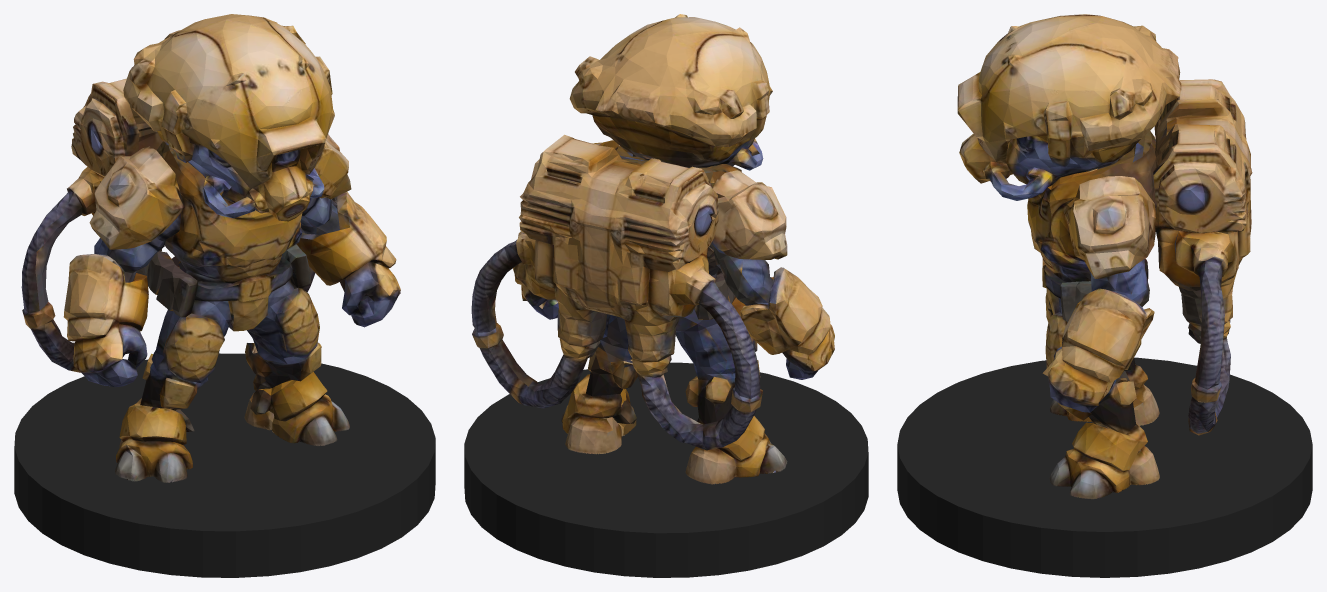
Rendered from pf-weapons-expert.glb.
3 views of the same model, side by side, from view 1: azimuth 30°, elevation 25°; view 2: azimuth 150°, elevation 25°; view 3: azimuth 270°, elevation 25° (orthographic). The views are drawn at different scales.
Parts seen in each view (by area): view 1: figure, base; view 2: figure, base; view 3: figure, base.
Part boxes in pixels (box(x1,y1,x2,y2)): figure: box(21, 14, 400, 482); base: box(14, 353, 435, 577); figure: box(471, 14, 834, 484); base: box(464, 362, 868, 577); figure: box(957, 14, 1252, 499); base: box(897, 357, 1312, 577).
Bounding box in the file's own units: 0.9843 × 1.22 × 0.9843.
Materials: 2 (1 with a texture image).
